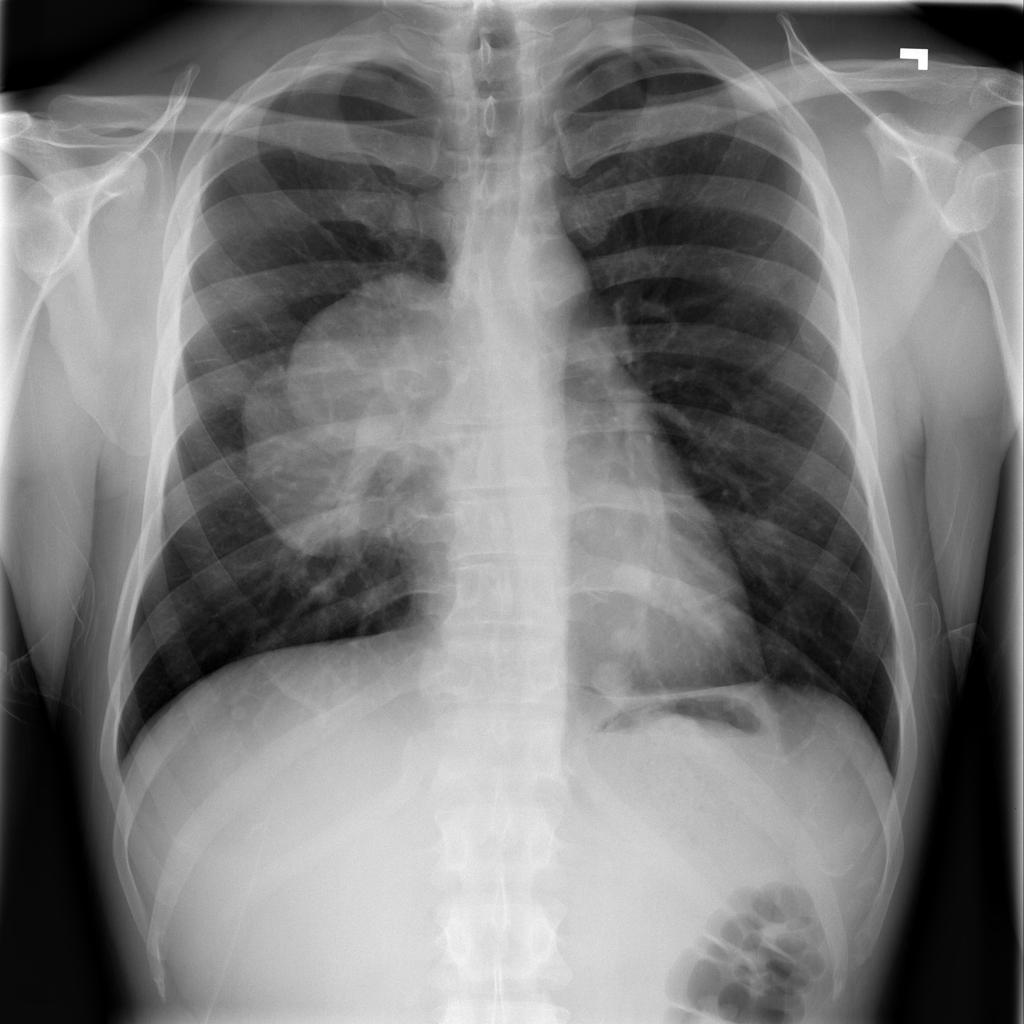nodule: (271, 259, 502, 516), (578, 646, 646, 717), (607, 555, 662, 605), (701, 247, 750, 301), (731, 382, 783, 432), (600, 615, 652, 665), (789, 498, 842, 546)
